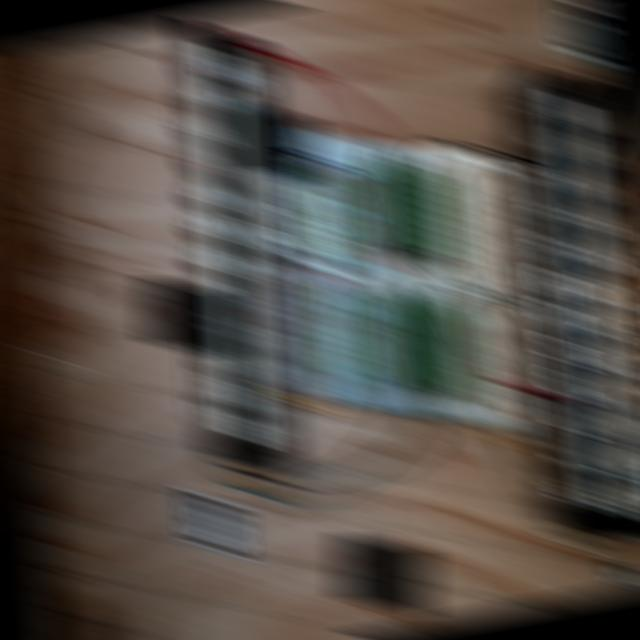Flathead_Block: (180, 18, 285, 474)
Phillips_Block: (527, 62, 640, 545)
Terminal_1: (317, 281, 361, 384), (307, 163, 351, 265)
Terminal_2: (375, 291, 421, 389), (434, 297, 478, 397), (405, 294, 449, 394), (393, 157, 437, 256), (366, 155, 409, 253)
